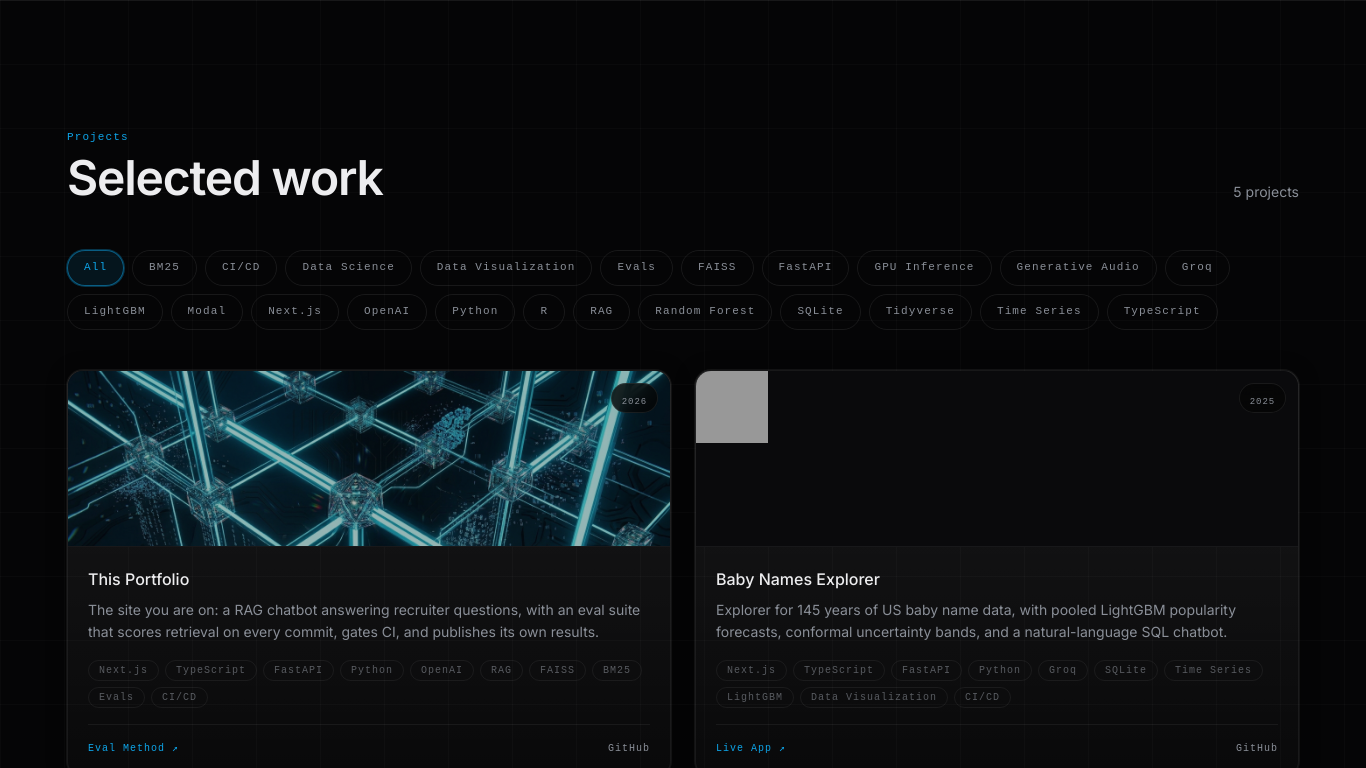
it: ProjectsSection › filters cards down to projects matching the selected tag
Click the button "R". click: (544, 312)
box: [524, 294, 565, 330]
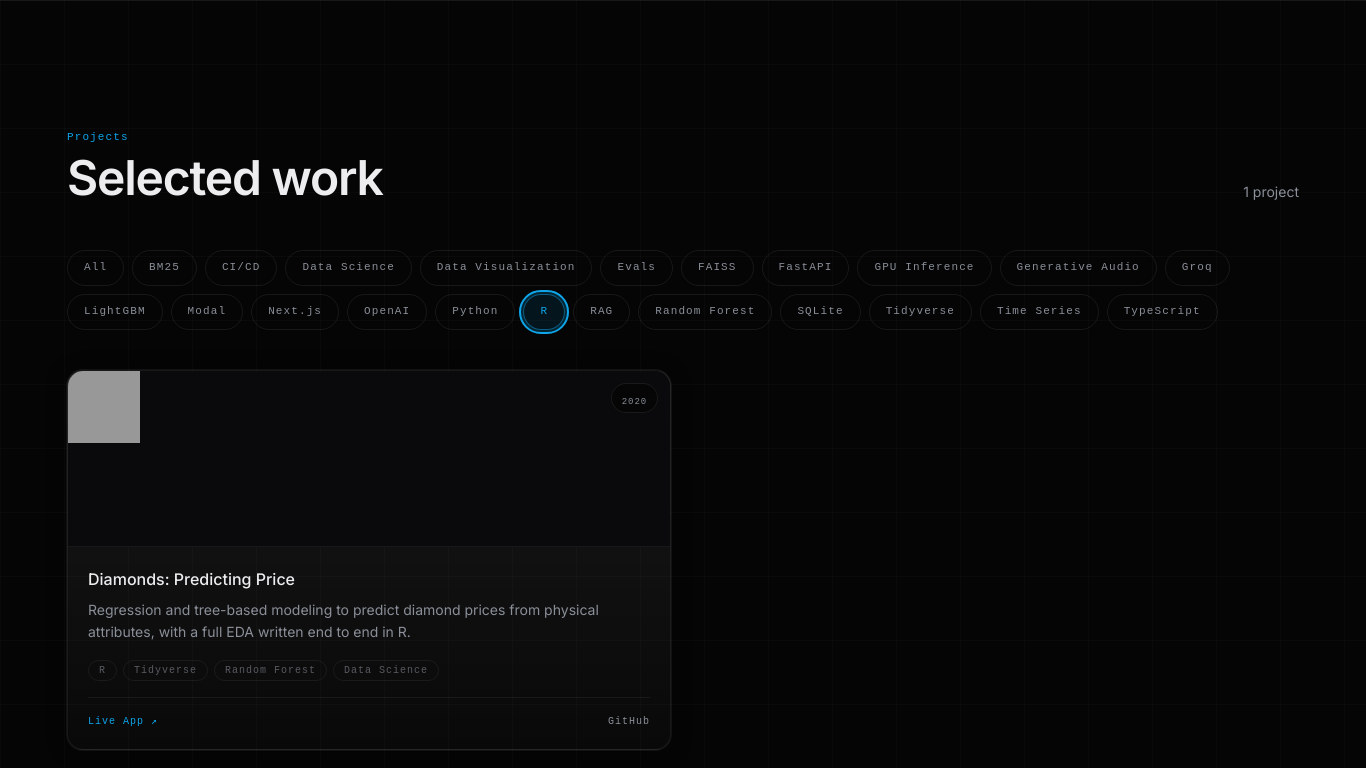
Expected: the heading "Diamonds: Predicting Price" is shown, [88, 568, 295, 588]
Expected: the text "1 project" is shown, [1243, 182, 1299, 202]
